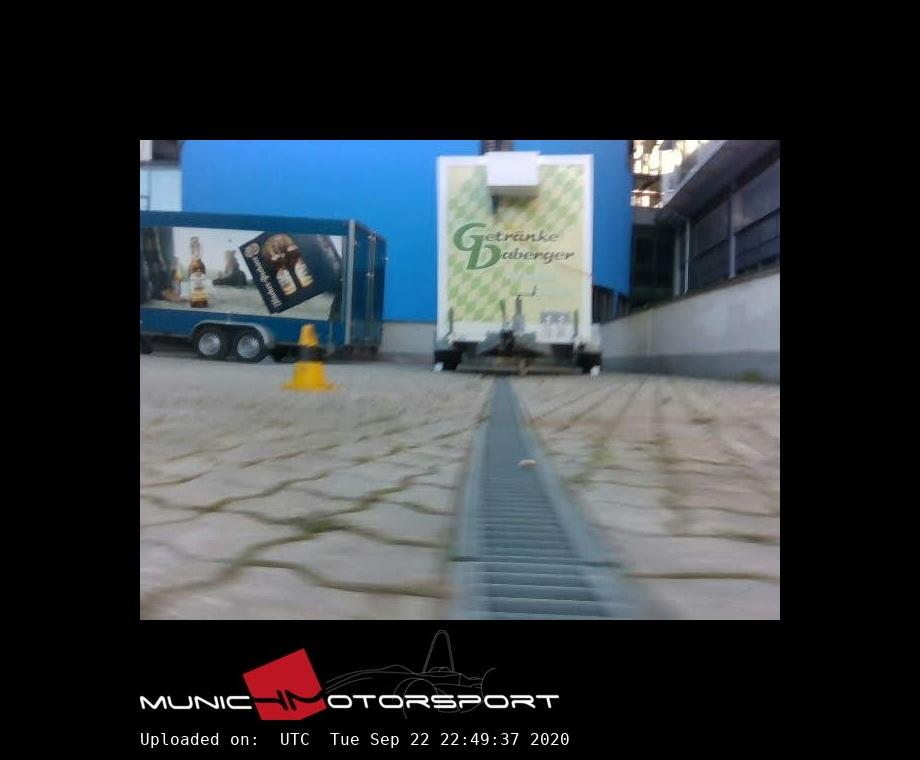yellow_cone: (281, 324, 332, 391)
